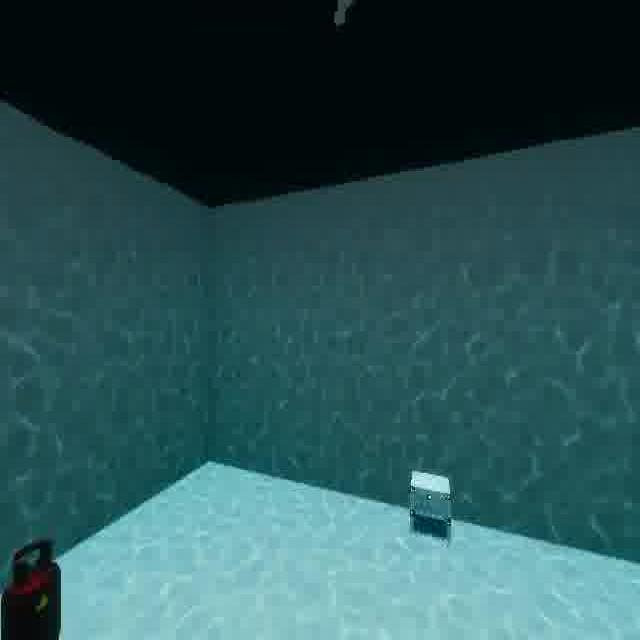Cylinder: (0, 519, 62, 640)
Docking Station: (405, 456, 459, 551)
